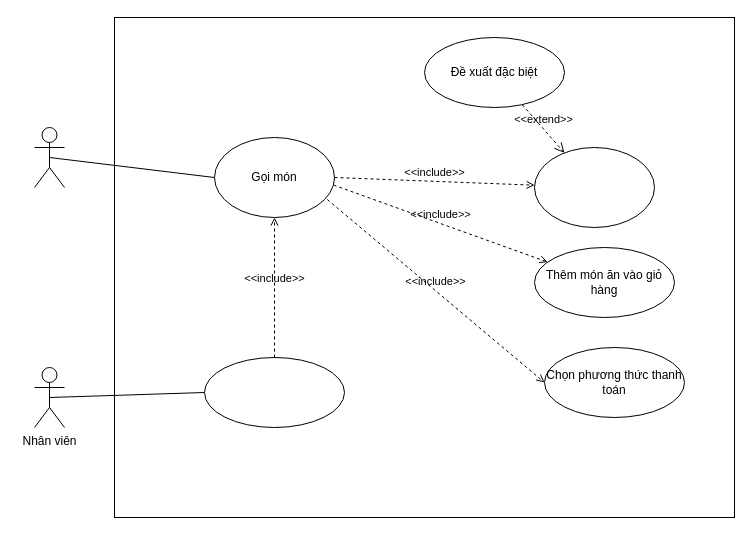
Some shapes in this 752 by 535 pixel diagram are drawn without their labels. The shapes that lost their labels are listed below. From the top down, each one's centre as x and y in pixels, then its label:
(49,157): Khách hàng
(594,187): Xem Menu
(274,392): Xác nhận
